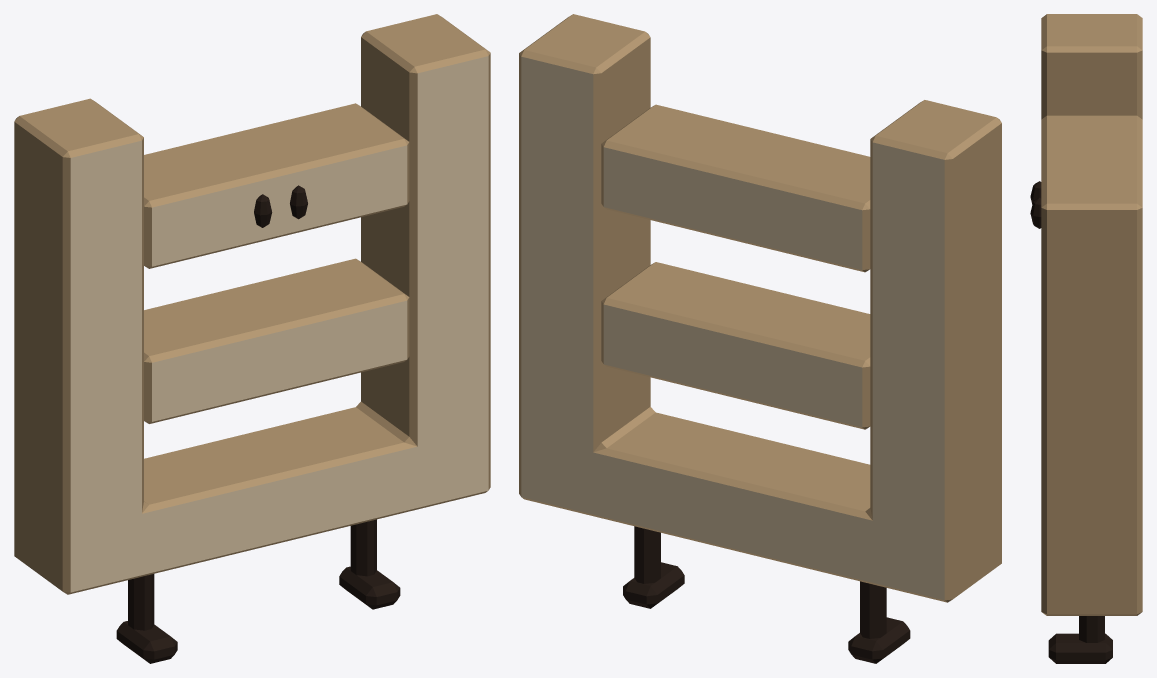
File: bieup.glb
3 renders of one model, left to right at view 1: azimuth 30°, elevation 25°; view 2: azimuth 150°, elevation 25°; view 3: azimuth 270°, elevation 25°, orthographic. The views are drawn at different scales.
Visible parts, largest first — view 1: Glyph, Leg_L, Leg_R; view 2: Glyph, Leg_R, Leg_L; view 3: Glyph, Leg_R, Eye_R.
Part boxes in pixels (left/top/right/bottom): Glyph: left=14, top=14, right=490, bottom=594; Leg_L: left=116, top=574, right=177, bottom=663; Leg_R: left=339, top=519, right=400, bottom=609; Glyph: left=519, top=14, right=1001, bottom=602; Leg_R: left=623, top=526, right=684, bottom=608; Leg_L: left=848, top=581, right=910, bottom=663; Glyph: left=1041, top=14, right=1142, bottom=615; Leg_R: left=1048, top=616, right=1112, bottom=663; Eye_R: left=1030, top=197, right=1041, bottom=228.
Bounding box in the file's own units: 0.5 × 0.6 × 0.122.
